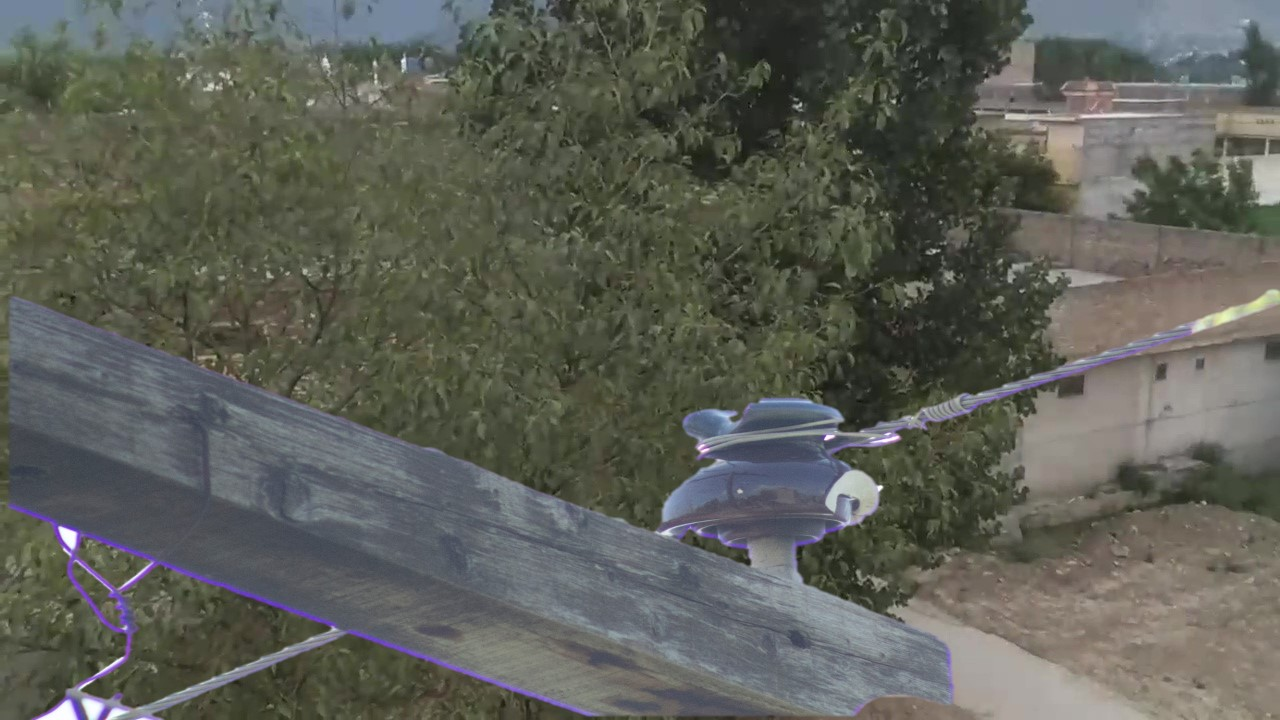defect_pin: (653, 388, 891, 554)
